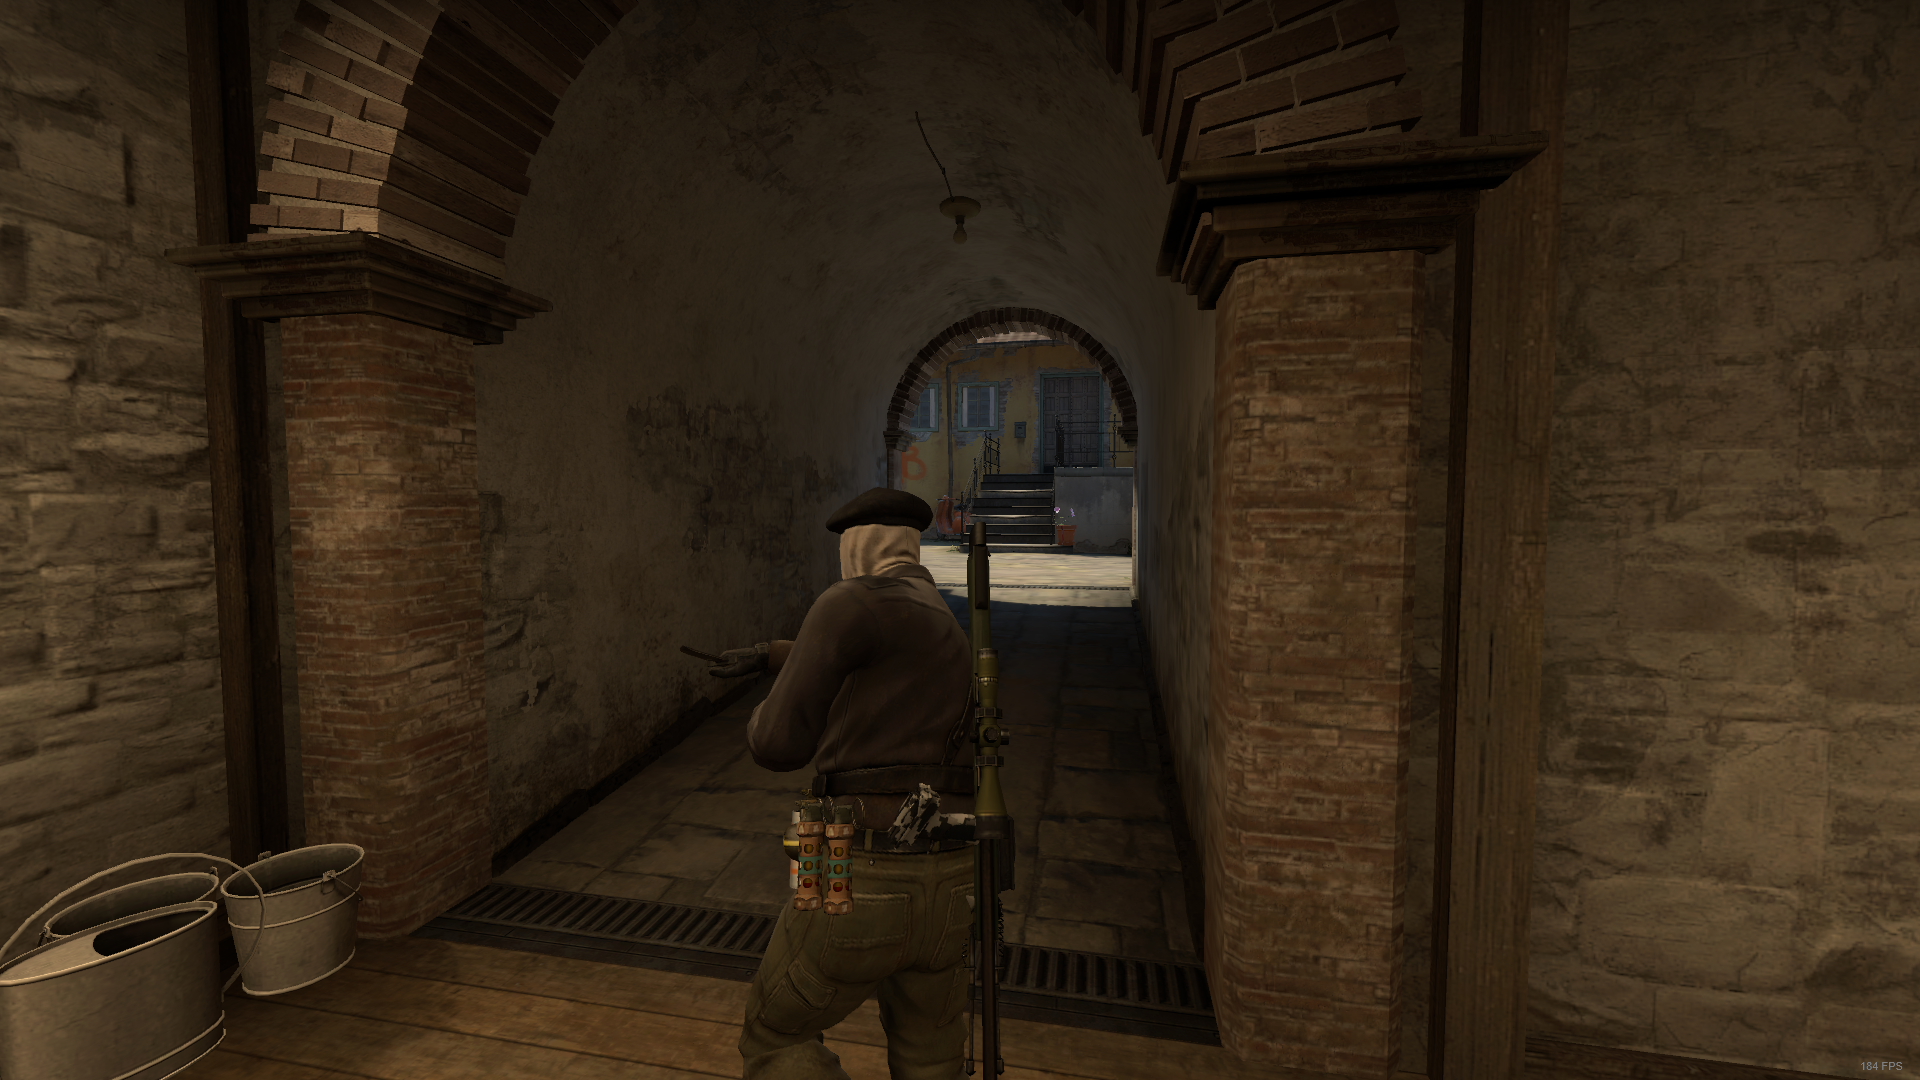t: (713, 488, 1002, 1080)
